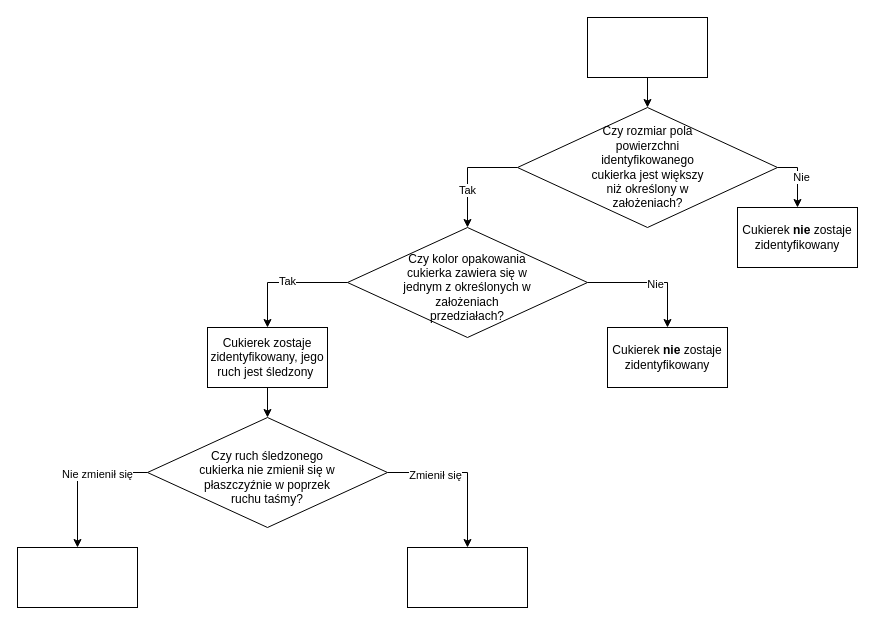
This 875x625 diagram has some shape labels left out. Here are the shapes that lost their labels. From the top down, the box of each, then its label:
(586, 16, 708, 78): Cukierek jest w kadrze kamery
(16, 546, 138, 608): Typ cukierka zostaje zliczony
(406, 546, 528, 608): Typ cukierka nie zostaje zliczony
